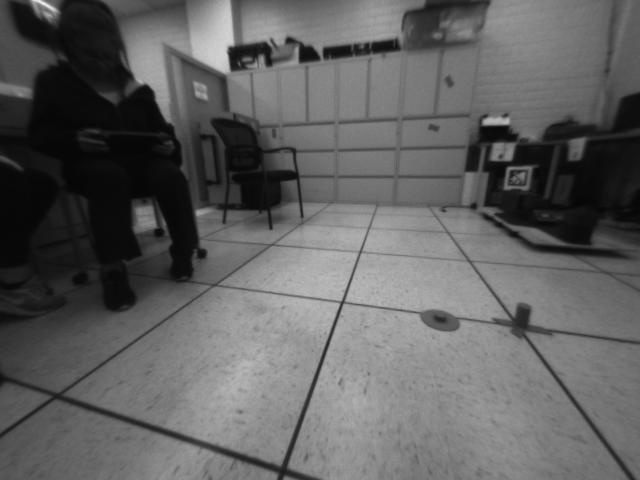X: (489, 300, 556, 340)
